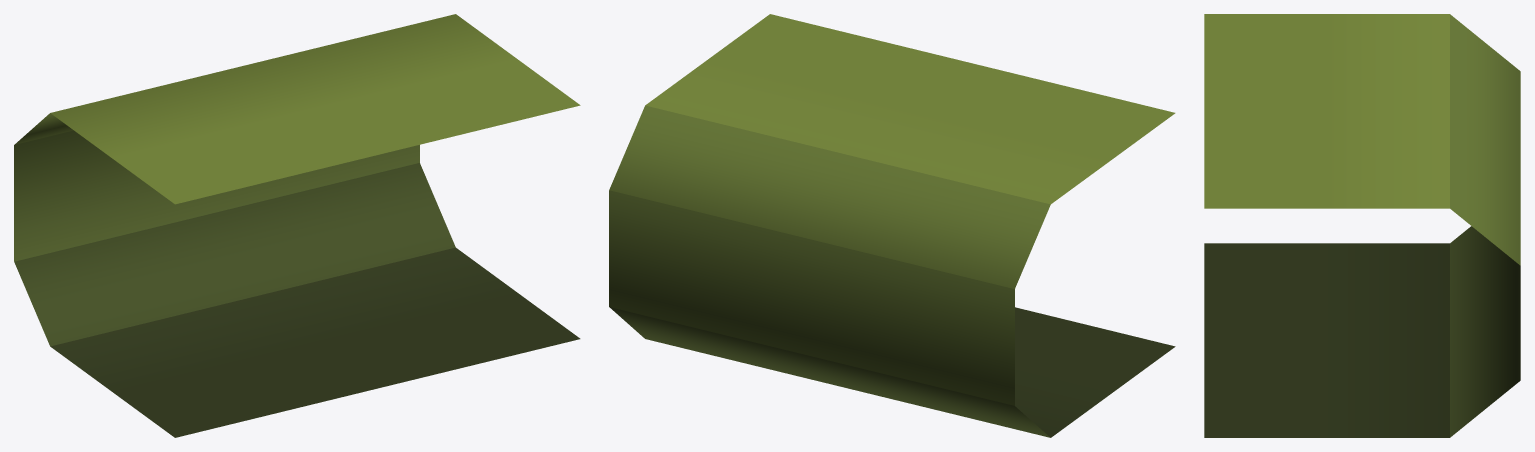
The model's file is grass_top_1x12_old.fbx.
The picture shows the model from 3 angles, left to right: view 1: azimuth 30°, elevation 25°; view 2: azimuth 150°, elevation 25°; view 3: azimuth 270°, elevation 25°; orthographic projection.
Parts seen in each view (by area): view 1: grass_top_1x12_old; view 2: grass_top_1x12_old; view 3: grass_top_1x12_old.
Part boxes in pixels (x1=…): grass_top_1x12_old: x1=14, y1=14, x2=580, y2=437; grass_top_1x12_old: x1=609, y1=14, x2=1175, y2=437; grass_top_1x12_old: x1=1204, y1=14, x2=1520, y2=437.
Bounding box in the file's own units: 100 × 55 × 68.72.
Materials: 1 (1 with a texture image).
